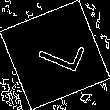L_NW: (26, 31, 84, 79)
